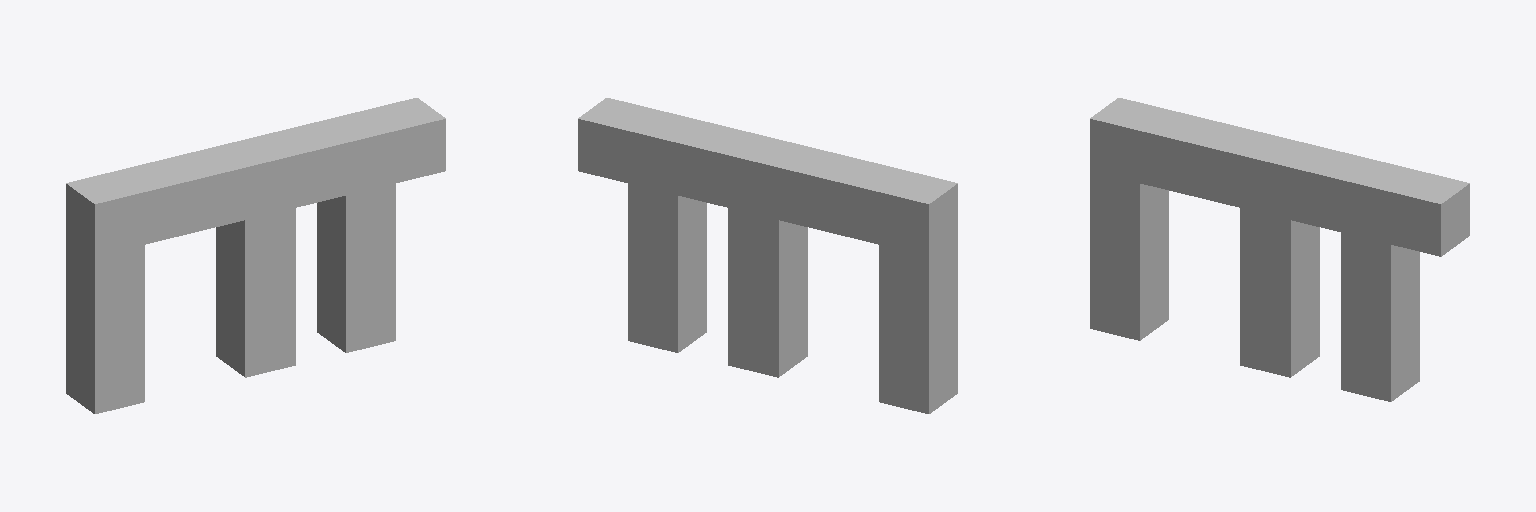
Rendered from environ-rail1.obj.
The picture shows the model from 3 angles: view 1: azimuth 30°, elevation 25°; view 2: azimuth 150°, elevation 25°; view 3: azimuth 330°, elevation 25°; orthographic projection.
Parts seen in each view (by area): view 1: rail1; view 2: rail1; view 3: rail1.
Part boxes in pixels (x1,y1,x2,y2): rail1: (66,98,445,413); rail1: (578,98,957,413); rail1: (1090,98,1469,401).
Bounding box in the file's own units: 0.7 × 0.4 × 0.1.